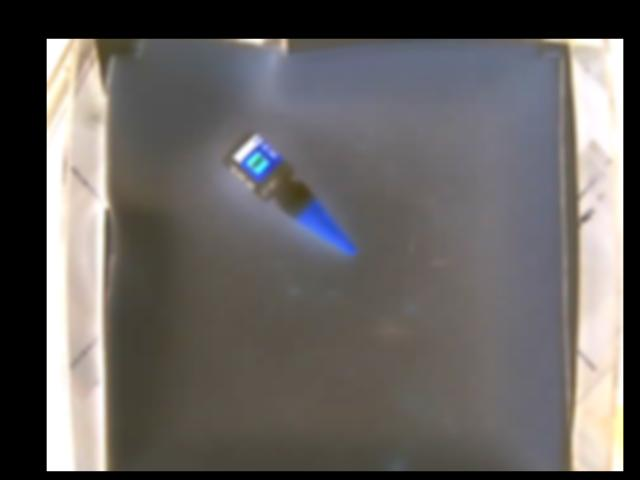Bottle: (224, 132, 354, 258)
